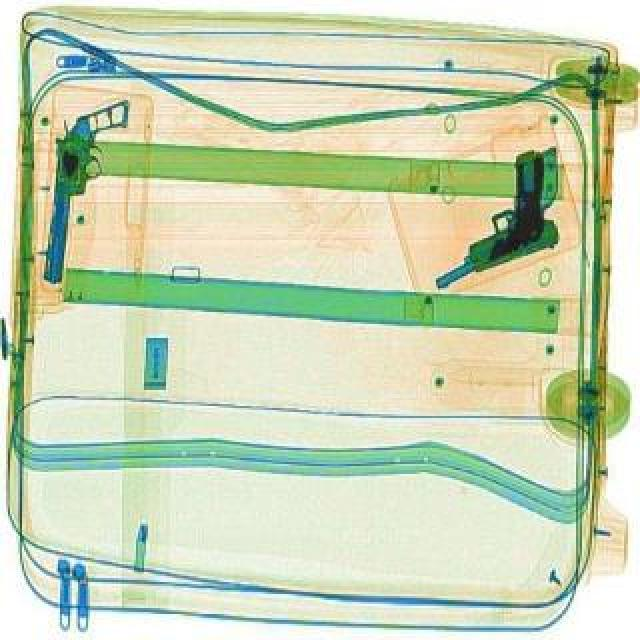gun: (402, 156, 574, 294), (46, 106, 130, 288)
